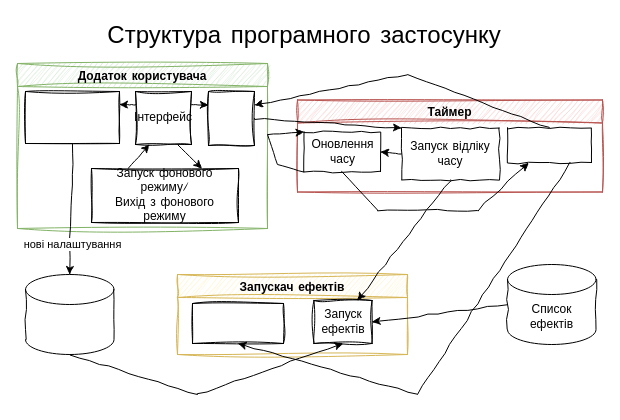
This 620x420 diagram has some shape labels left out. Here are the shapes that lost their labels. From the top down, the centre of each, then its label:
the point at 72,117: Зміна налаштувань
the point at 231,118: запуск таймера
the point at 549,145: Завершення
the point at 69,314: Файли налаштувань
the point at 238,323: Зуппинка ефектів
